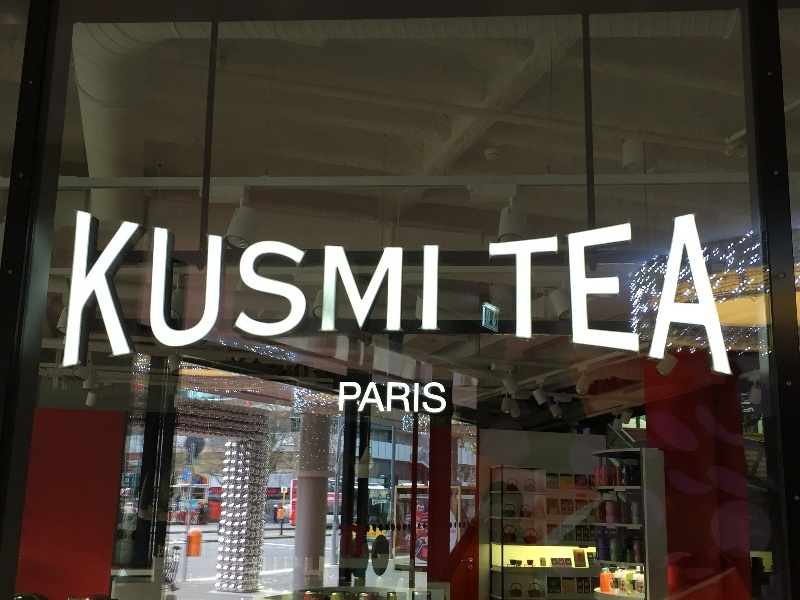text: (497, 210, 512, 377), (513, 210, 528, 377), (529, 210, 544, 377), (545, 210, 560, 377), (561, 210, 576, 377), (577, 210, 592, 377), (593, 210, 608, 377), (609, 210, 624, 377), (625, 210, 640, 377), (641, 210, 656, 377), (657, 210, 672, 377), (673, 210, 688, 377), (689, 210, 704, 377), (705, 210, 720, 377), (81, 213, 96, 370), (97, 213, 112, 370), (113, 213, 128, 370), (129, 213, 144, 370), (145, 213, 160, 370), (161, 213, 176, 370), (177, 213, 192, 370), (193, 213, 208, 370), (209, 213, 224, 370), (225, 213, 240, 370), (241, 213, 256, 370), (257, 213, 272, 370), (273, 213, 288, 370), (289, 213, 304, 370), (305, 213, 320, 370), (321, 213, 336, 370), (337, 213, 352, 370), (353, 213, 368, 370), (369, 213, 384, 370), (385, 213, 400, 370), (401, 213, 416, 370), (417, 213, 432, 370), (721, 210, 734, 377), (488, 210, 496, 377), (433, 213, 441, 370), (74, 213, 80, 370), (353, 381, 368, 415), (369, 381, 384, 415), (385, 381, 400, 415), (401, 381, 416, 415), (417, 381, 432, 415), (433, 381, 448, 415), (338, 381, 352, 415)
